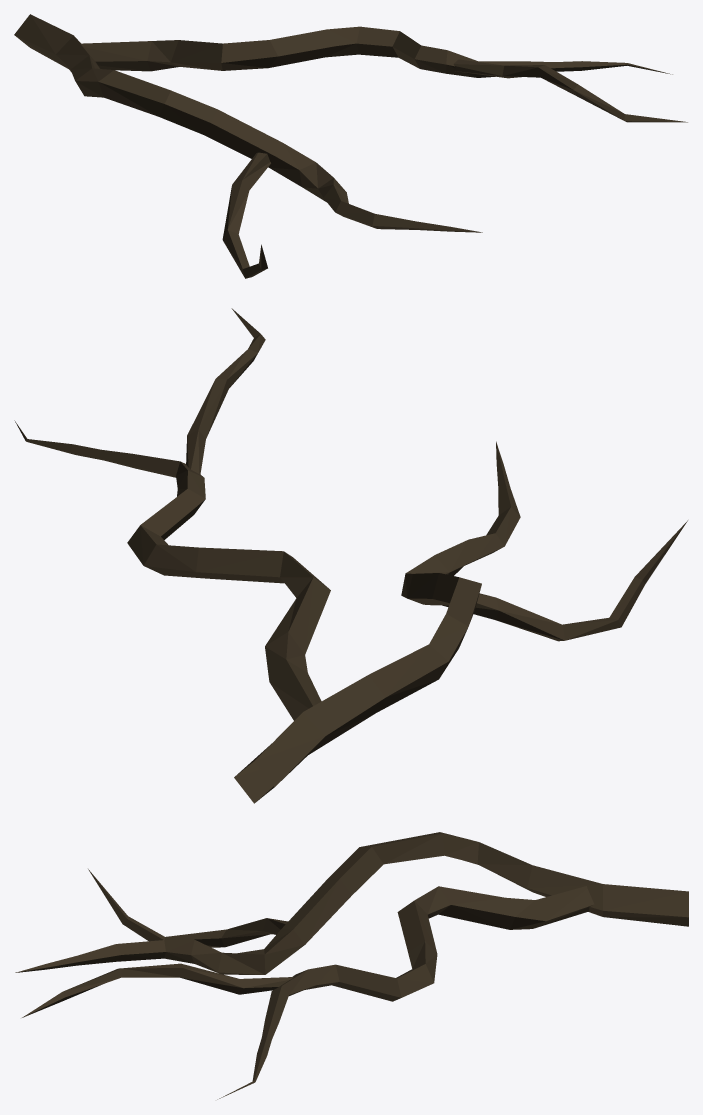
File: Root_Small_3.fbx
3 views of the same model, one above another, from view 1: azimuth 30°, elevation 25°; view 2: azimuth 150°, elevation 25°; view 3: azimuth 270°, elevation 25° (orthographic). The views are drawn at different scales.
Visible parts, largest first — view 1: polySurface1255; view 2: polySurface1255; view 3: polySurface1255.
Boxes of the visible parts, x1,y1,x2,y2 form: polySurface1255: (14, 14, 687, 278); polySurface1255: (14, 308, 687, 803); polySurface1255: (15, 832, 688, 1099).
Size of the model in its own units: 5.2 by 1.37 by 6.13.
